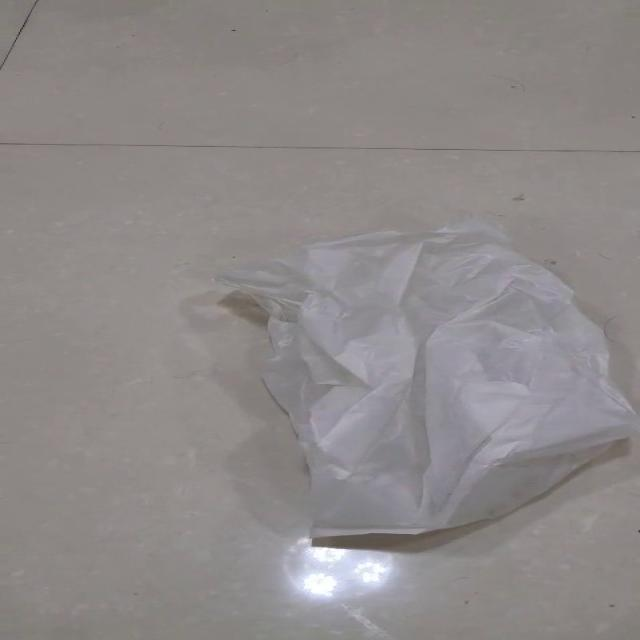plastic: (212, 216, 638, 540)
